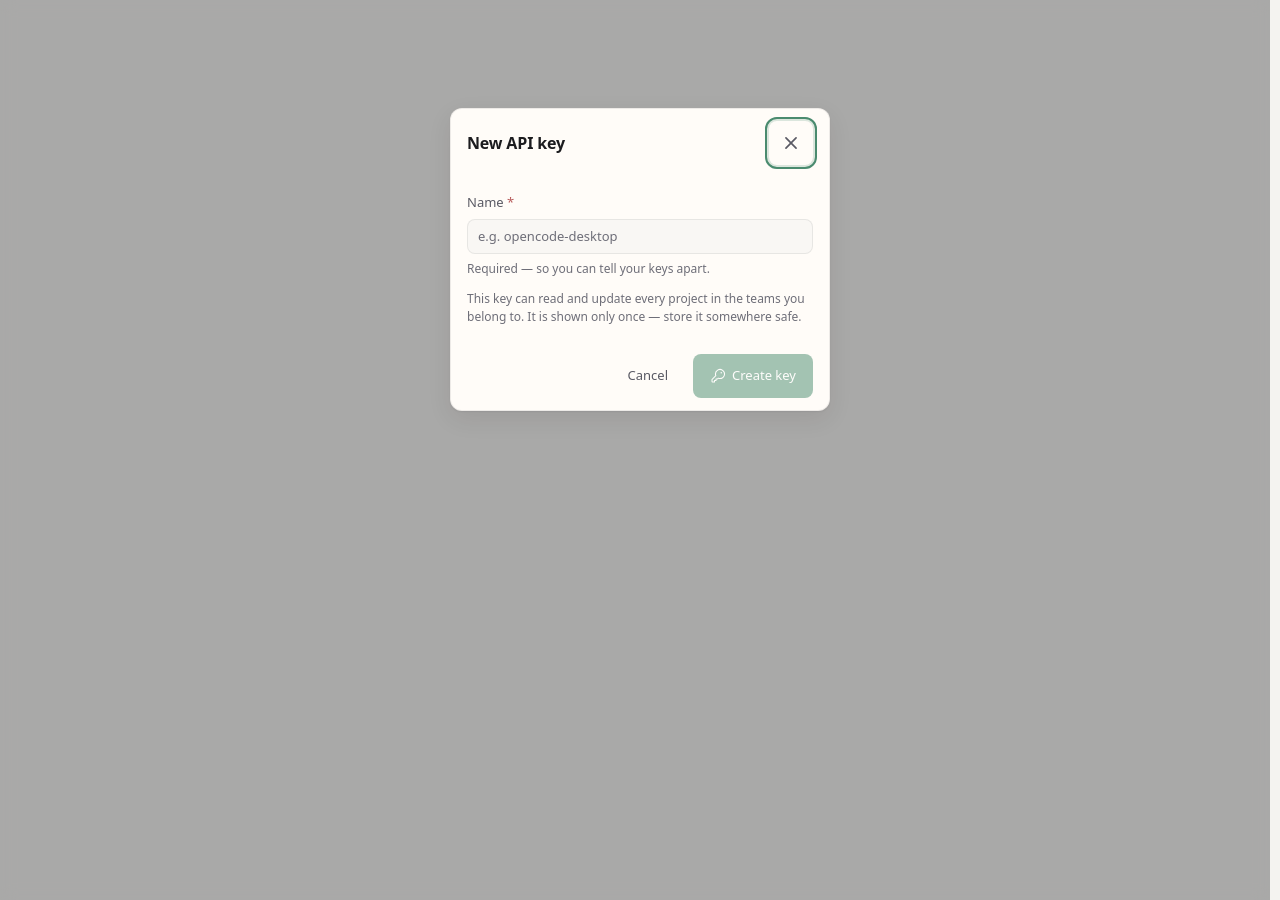
NewKeyModal › shows next steps with an OAuth curl test command and the MCP guide link after creation
Type "ci-runner" into the field labelled "Name *" at coordinates (640, 236), box [467,218,813,254]
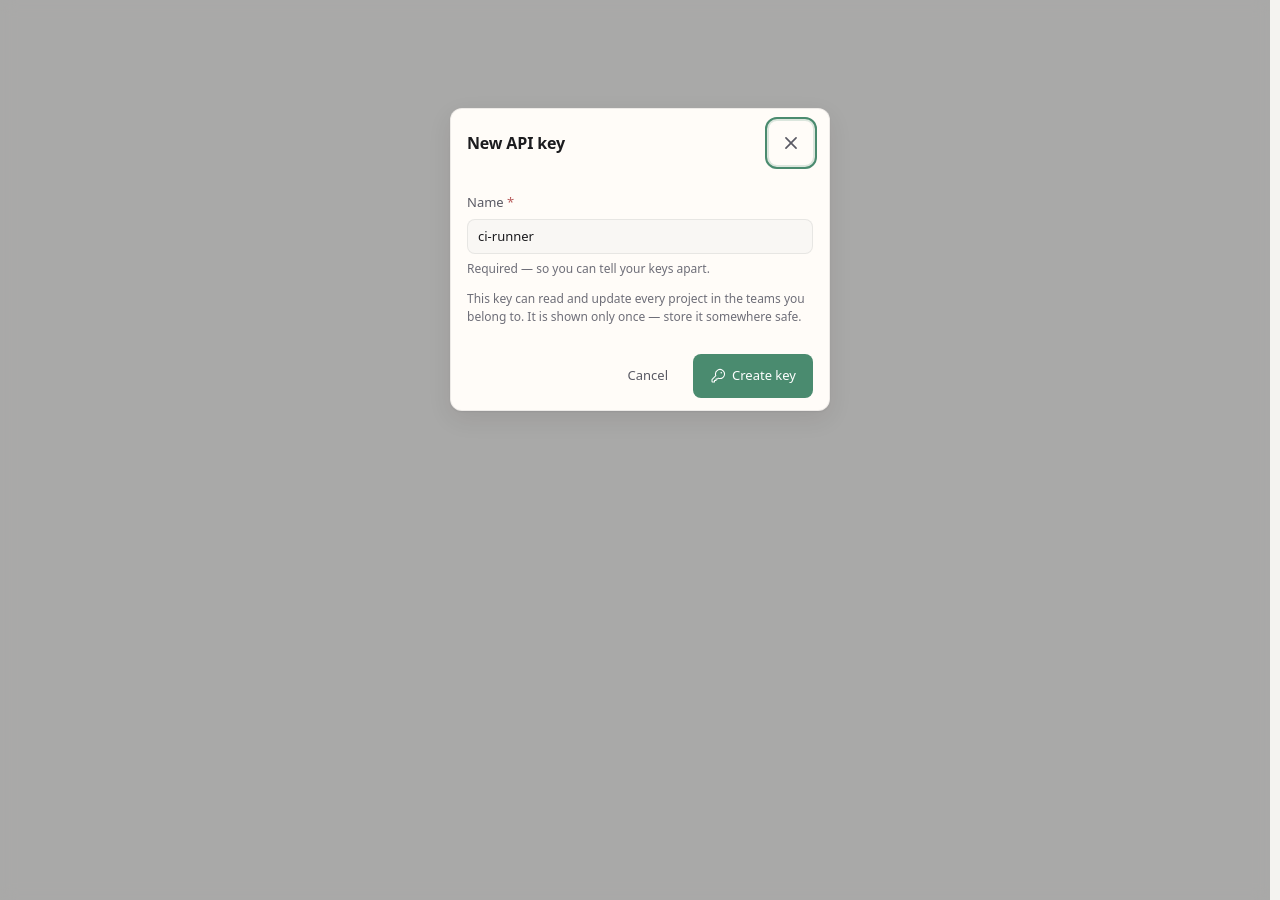
Click the button "Create key" at coordinates (753, 376), box [693,354,813,398]
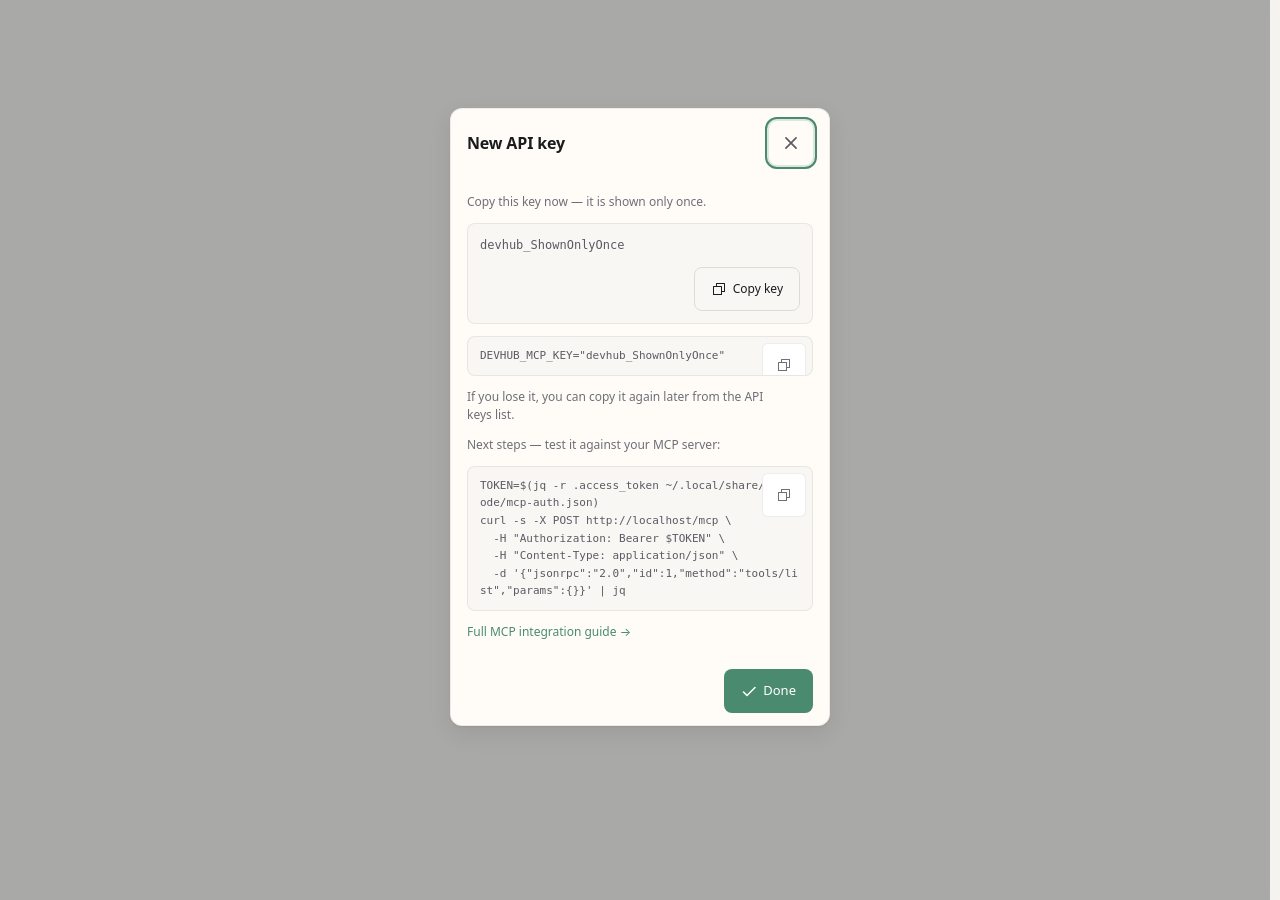
Check: the text "Next steps — test it against your MCP server:" is shown, box [467,436,720,453]
Check: the text "curl -s -X POST" is shown, box [480,479,798,597]
